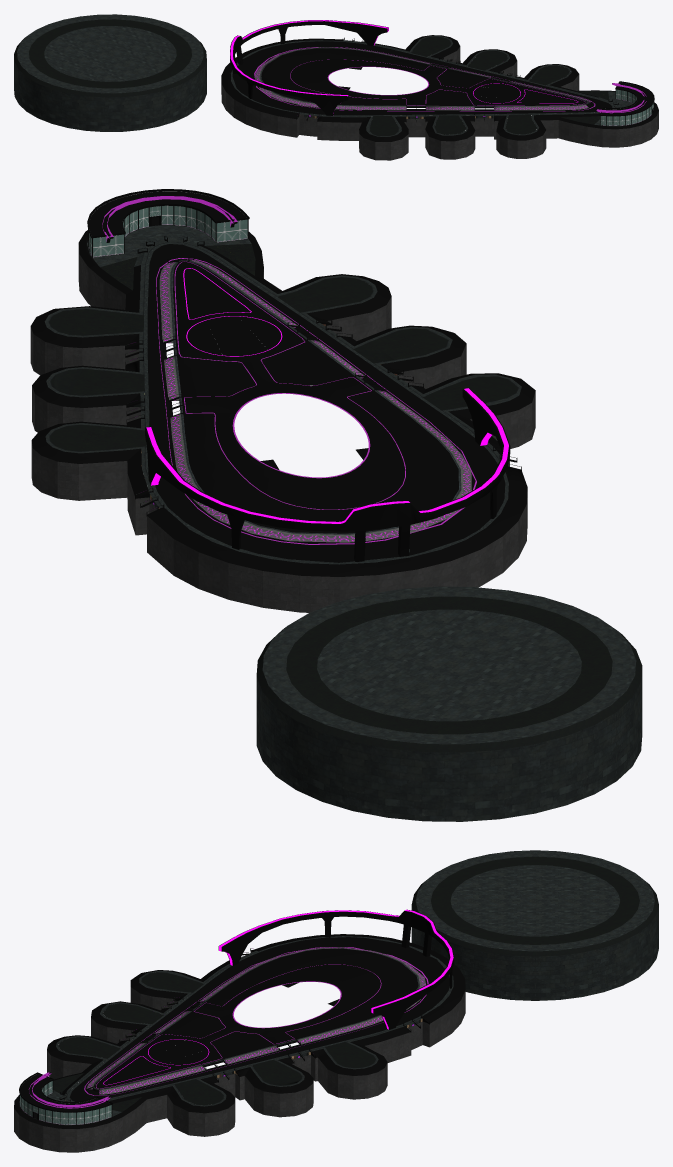
3 views of the same model, one above another, from view 1: azimuth 30°, elevation 25°; view 2: azimuth 150°, elevation 25°; view 3: azimuth 270°, elevation 25° (orthographic). The views are drawn at different scales.
Parts seen in each view (by area): view 1: Base03; view 2: Base03; view 3: Base03.
Boxes of the visible parts, x1=… form: Base03: x1=14, y1=14, x2=658, y2=160; Base03: x1=30, y1=189, x2=642, y2=821; Base03: x1=14, y1=850, x2=658, y2=1152.
Bounding box in the file's own units: 26547 × 3741 × 26064.
